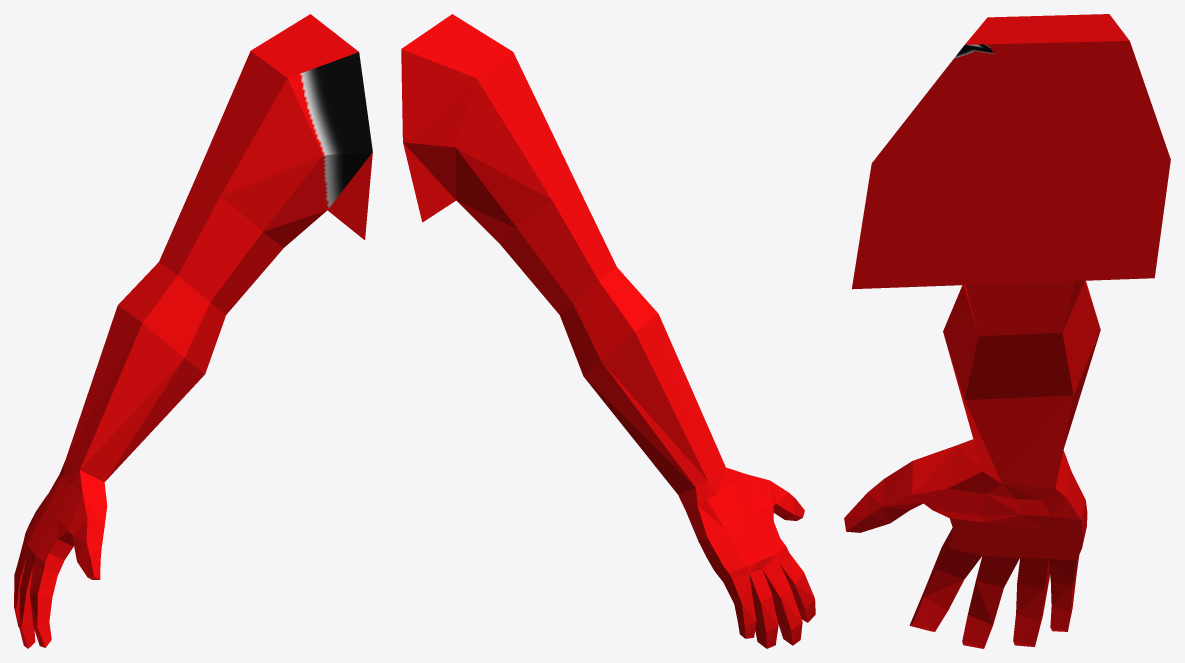
Rendered from enemy2RightHand.obj.
3 views of the same model, side by side, from view 1: azimuth 30°, elevation 25°; view 2: azimuth 150°, elevation 25°; view 3: azimuth 270°, elevation 25° (orthographic). The views are drawn at different scales.
Parts seen in each view (by area): view 1: Cube.001; view 2: Cube.001; view 3: Cube.001.
Part boxes in pixels (<box>): Cube.001: <box>14,14,372,648</box>; Cube.001: <box>401,14,815,648</box>; Cube.001: <box>844,14,1170,648</box>.
Size of the model in its own units: 0.4684 by 0.6929 by 0.233.
